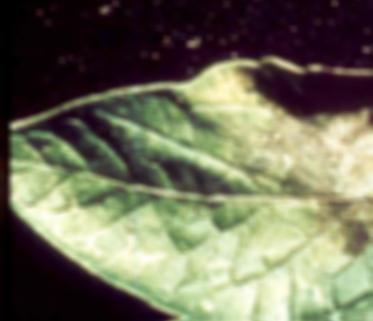Tomato leaf late blight: (6, 12, 373, 321)
